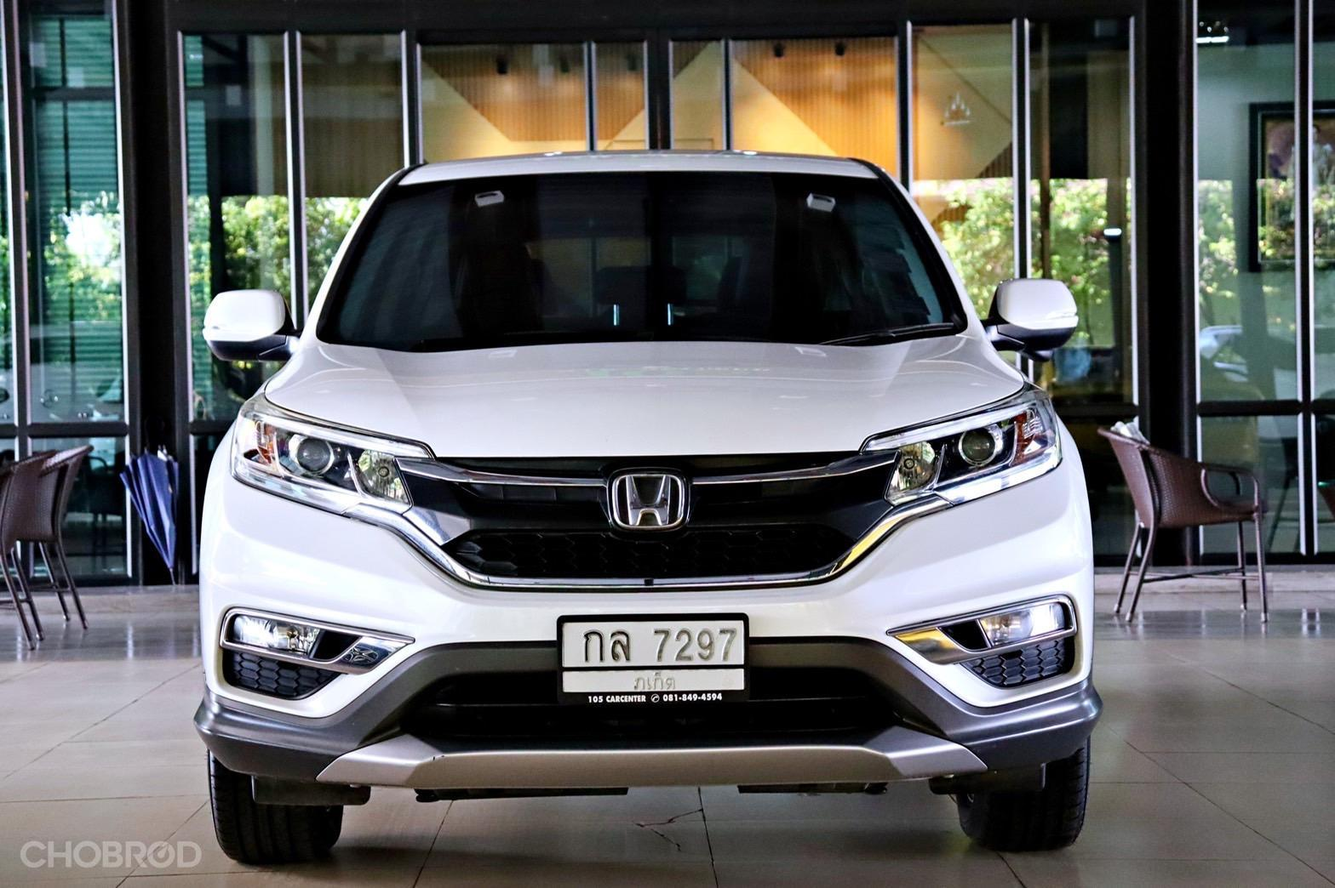license-plate: (555, 611, 751, 713)
